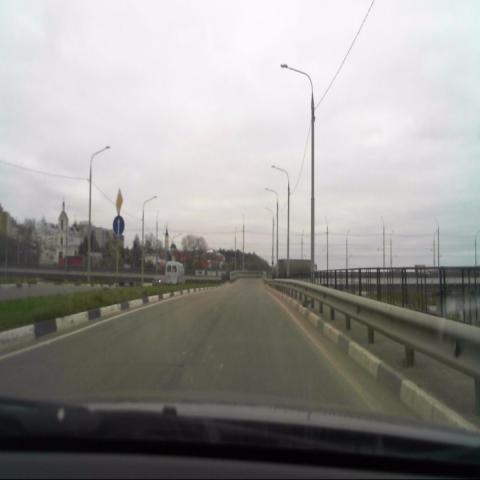2_1: (114, 186, 124, 214)
4_1_1: (112, 217, 125, 236)
